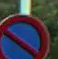No waiting: (1, 9, 49, 57)
